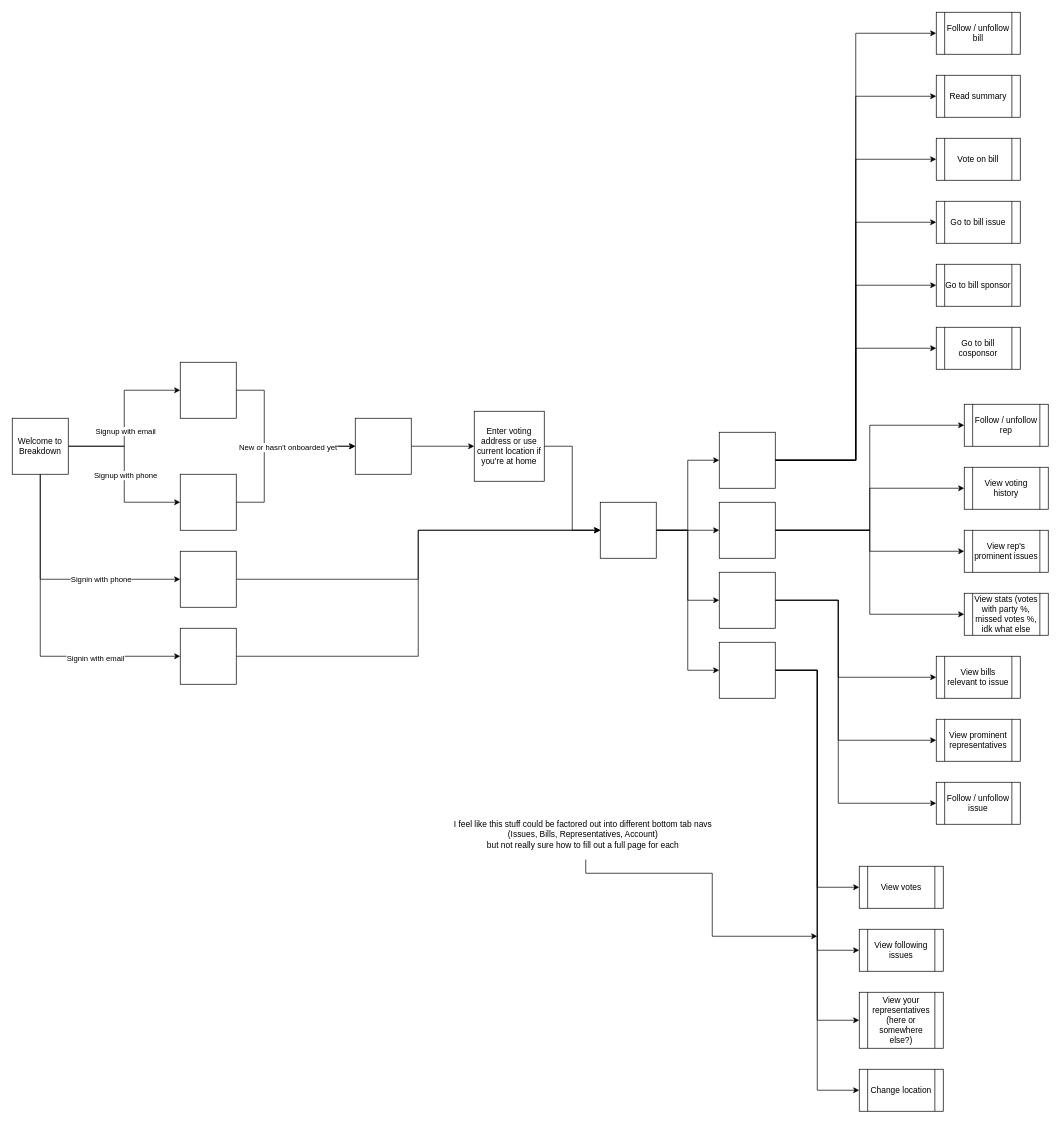
Some shapes in this 1061 by 1124 pixel diagram are drawn without their labels. The centre of each missing label's shape, as x and y in pixels:
"Account / Profile" goes at point (747, 670).
"Bill" goes at point (747, 460).
"Home" goes at point (628, 530).
"Issue" goes at point (747, 600).
"Rep / Senator" goes at point (747, 530).
"Signin (email)" goes at point (208, 656).
"Signin (SMS)" goes at point (208, 579).
"Signup (email)" goes at point (208, 390).
"Signup (SMS)" goes at point (208, 502).
"Which issues are you interested in?" goes at point (383, 446).
